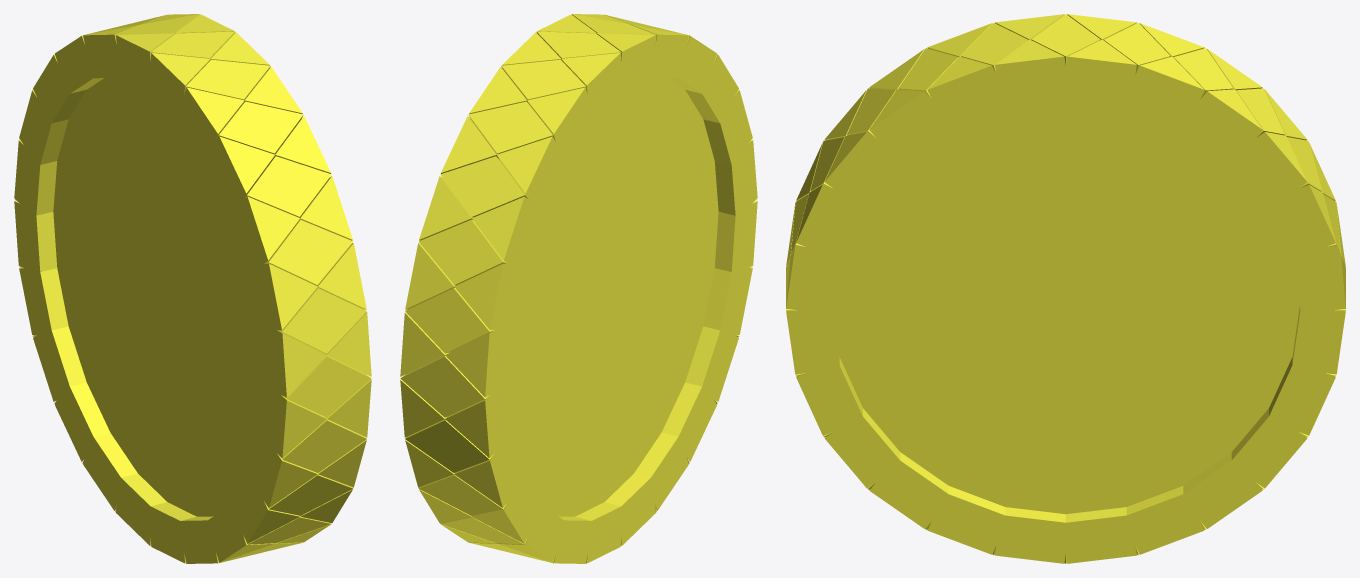
Rendered from coin.glb.
3 views of the same model, side by side, from view 1: azimuth 30°, elevation 25°; view 2: azimuth 150°, elevation 25°; view 3: azimuth 270°, elevation 25° (orthographic). The views are drawn at different scales.
Parts seen in each view (by area): view 1: Cylindre; view 2: Cylindre; view 3: Cylindre.
Part boxes in pixels (x1,y1,x2,y2): Cylindre: (14, 14, 371, 563); Cylindre: (400, 14, 757, 563); Cylindre: (786, 14, 1345, 563).
Bounding box in the file's own units: 0.15 × 0.8353 × 0.8353.
